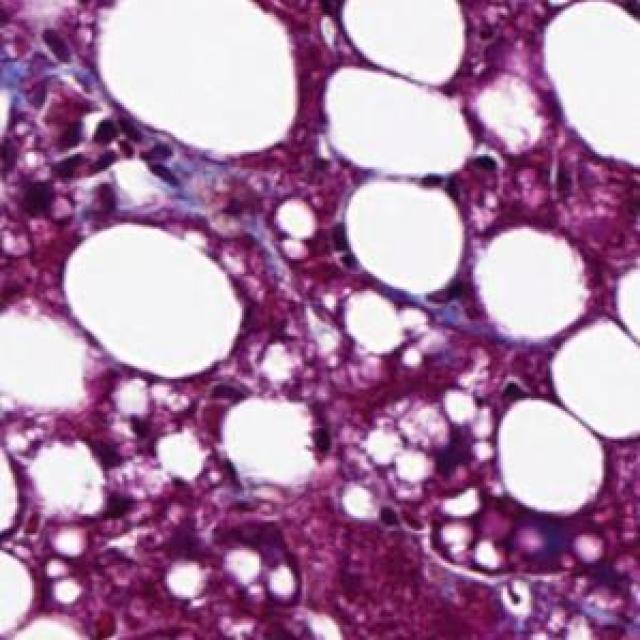inflammation: (51, 114, 122, 184), (90, 411, 156, 467), (428, 422, 486, 484), (462, 139, 508, 188)
